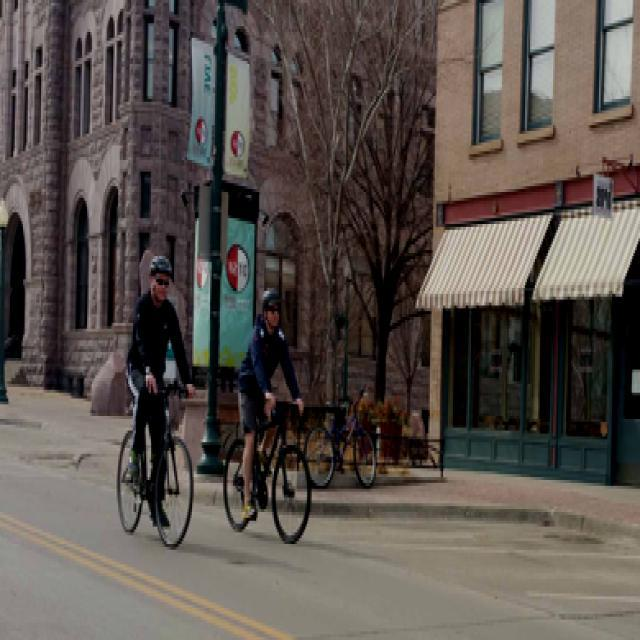Helmet: (256, 282, 286, 338), (148, 247, 178, 300)
